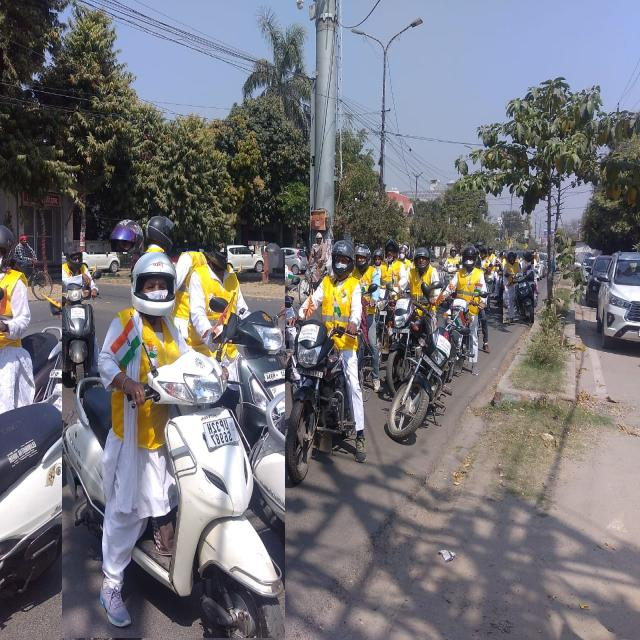car: (596, 252, 640, 347), (228, 245, 264, 273), (281, 247, 308, 275)
motorcycle: (62, 252, 285, 638), (48, 220, 159, 446), (285, 242, 366, 483), (388, 300, 469, 441), (384, 247, 440, 395), (245, 243, 295, 381), (504, 250, 534, 323)
